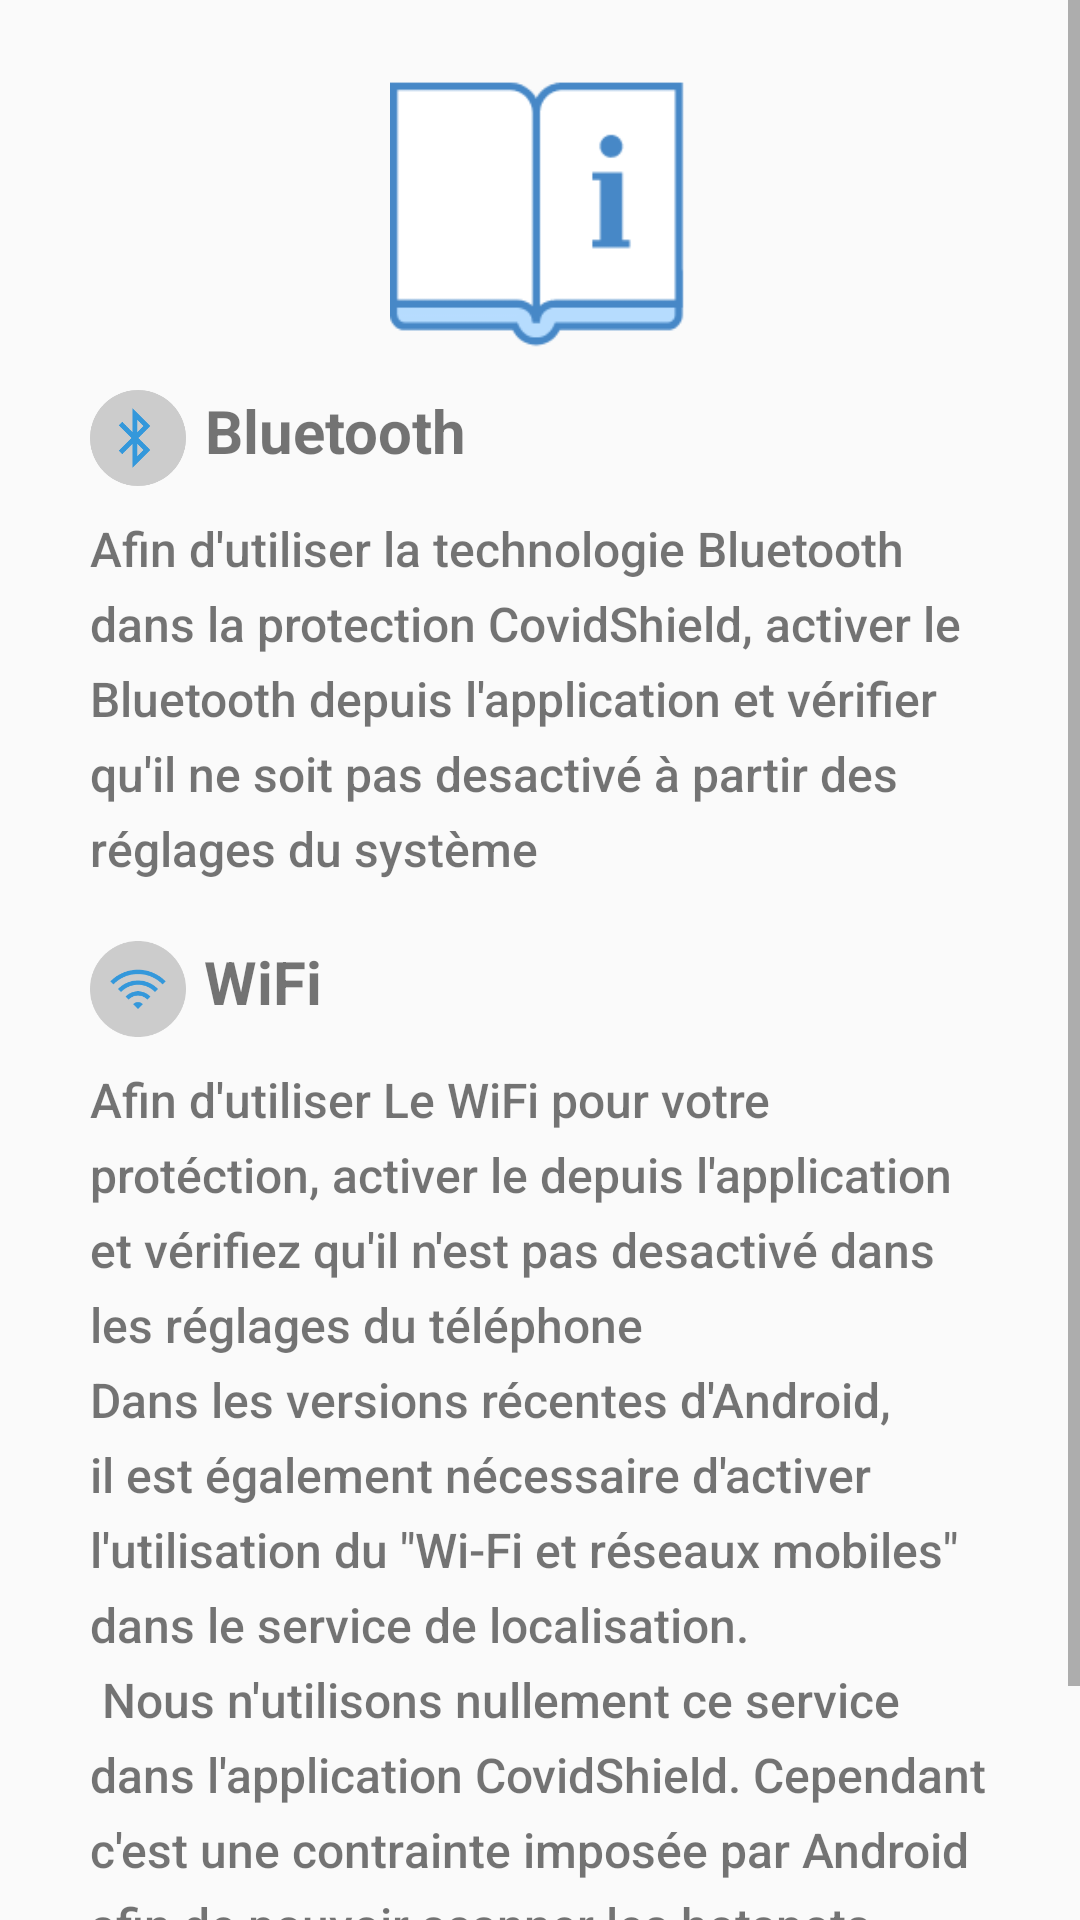

Where icons sit on this 1080x1920 app screen, as (x1, y1, x2, y2):
guide: (390, 82, 684, 346)
